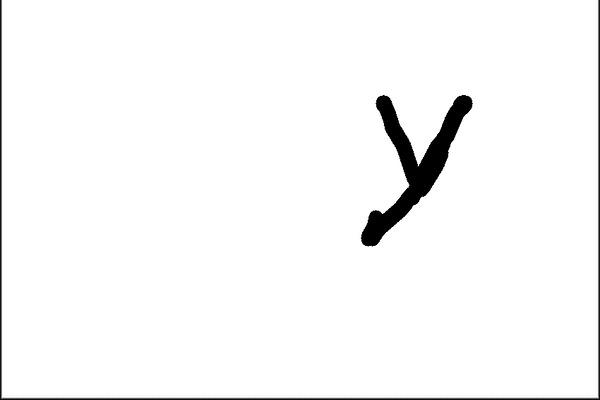Y: (351, 78, 481, 256)
